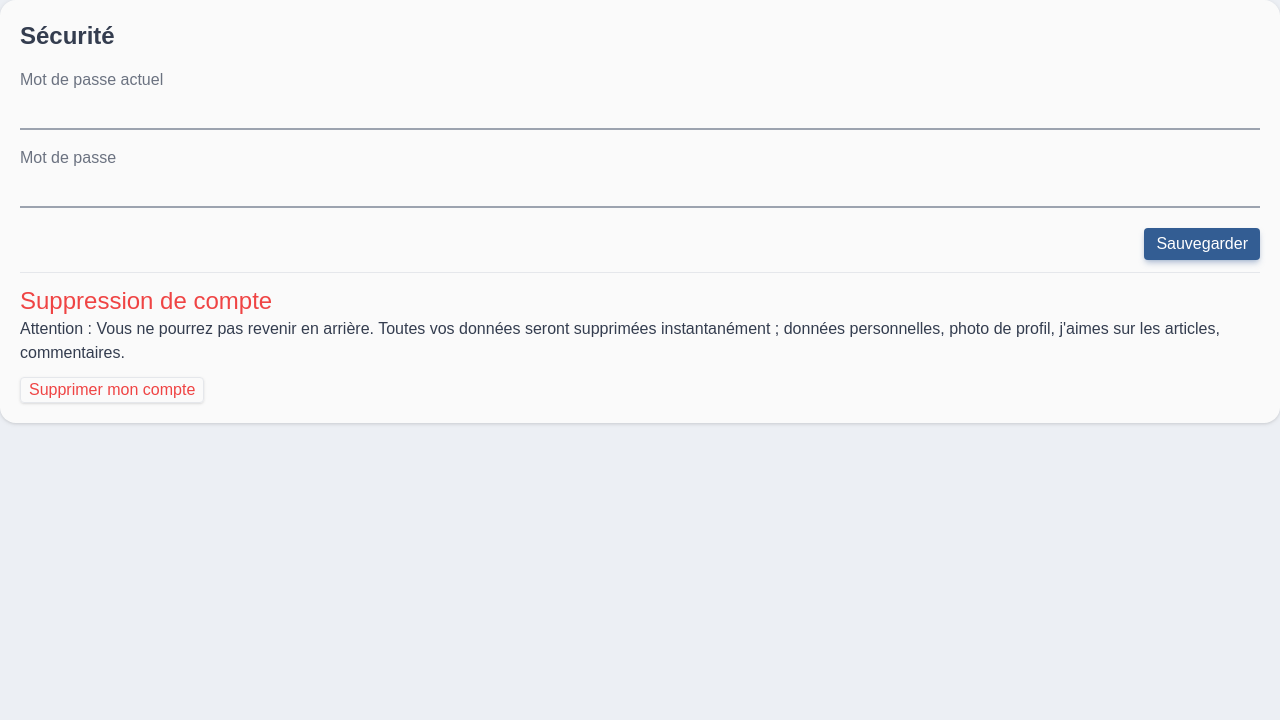
Test case: Security View › should delete user account with errors
What coordinates should you click on to do the following:
click the button "Supprimer mon compte"
I would click on:
 (112, 390)
Its box is [20, 377, 204, 403].
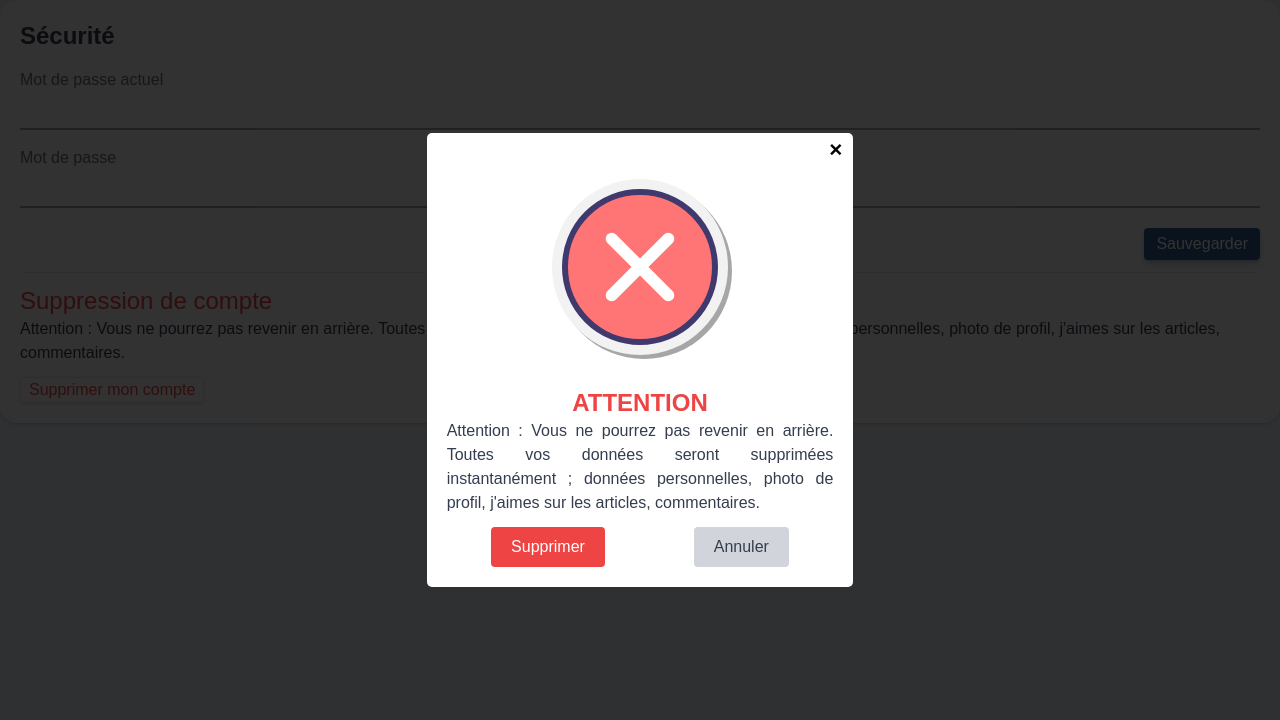
Result: the button "Supprimer" is shown
What coordinates should you click on to do the following:
click the button "Supprimer"
I would click on:
 (548, 547)
Its box is [491, 527, 605, 567].
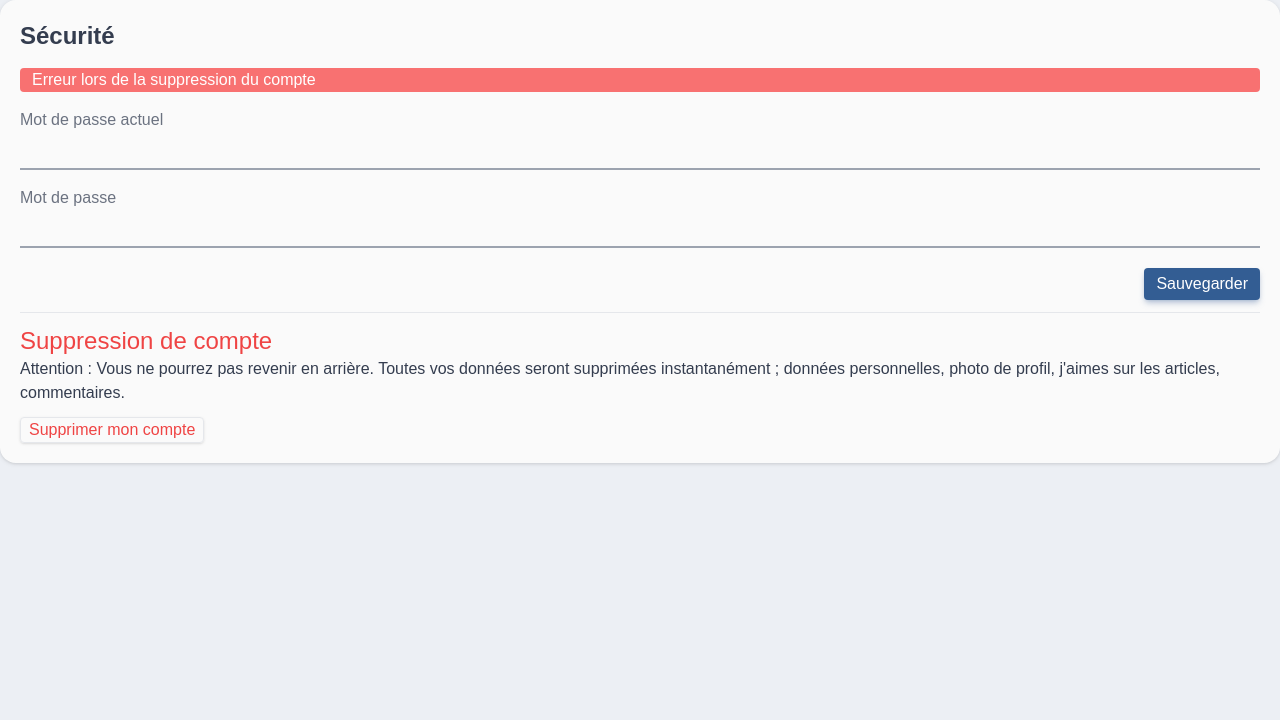
Result: the text "Erreur lors de la suppression du compte" is shown at [20, 68, 1260, 92]
